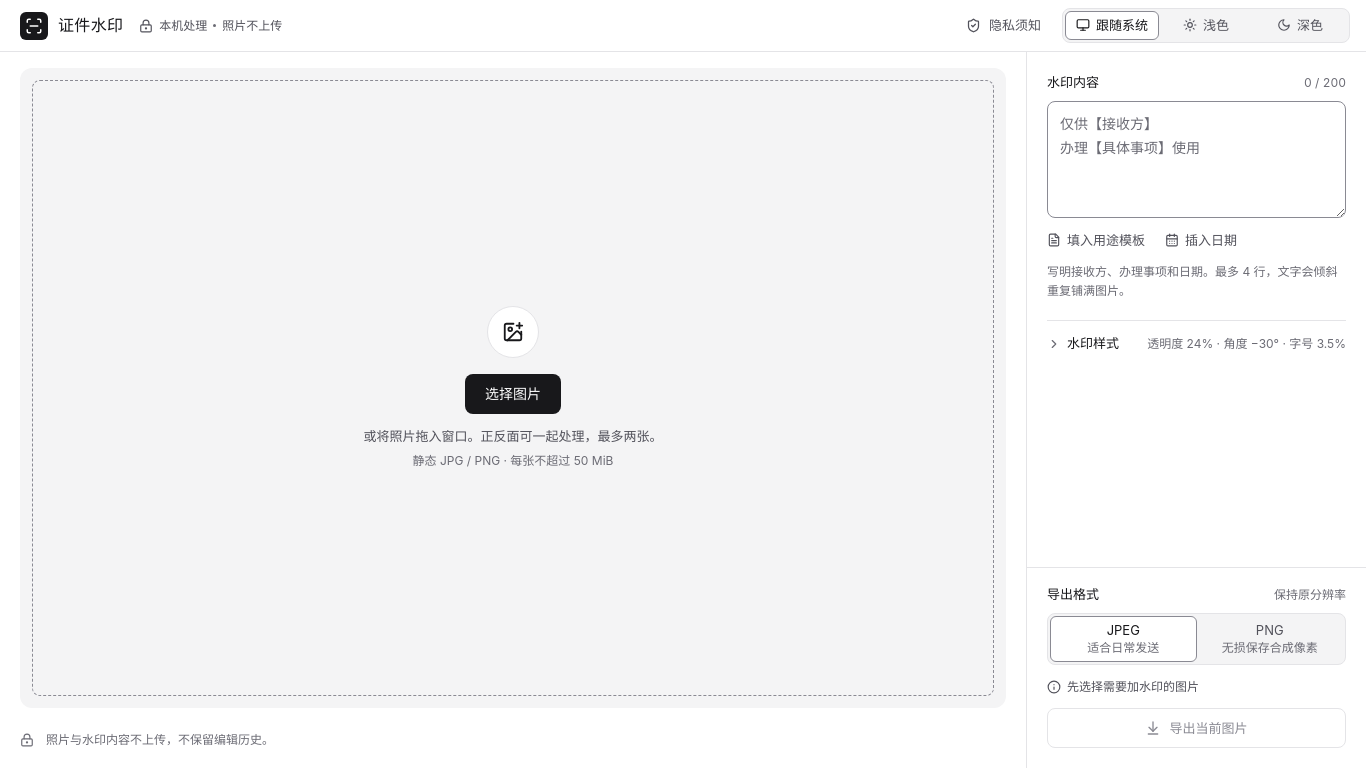
Scenario: the collapsed style section shows its current values
Expected: the text "透明度 24% · 角度 −30° · 字号 3.5%" is shown, [1147,334,1346,353]
Set the slider labelled "透明度" to "40" at (1196, 343), box [1047,320,1346,366]
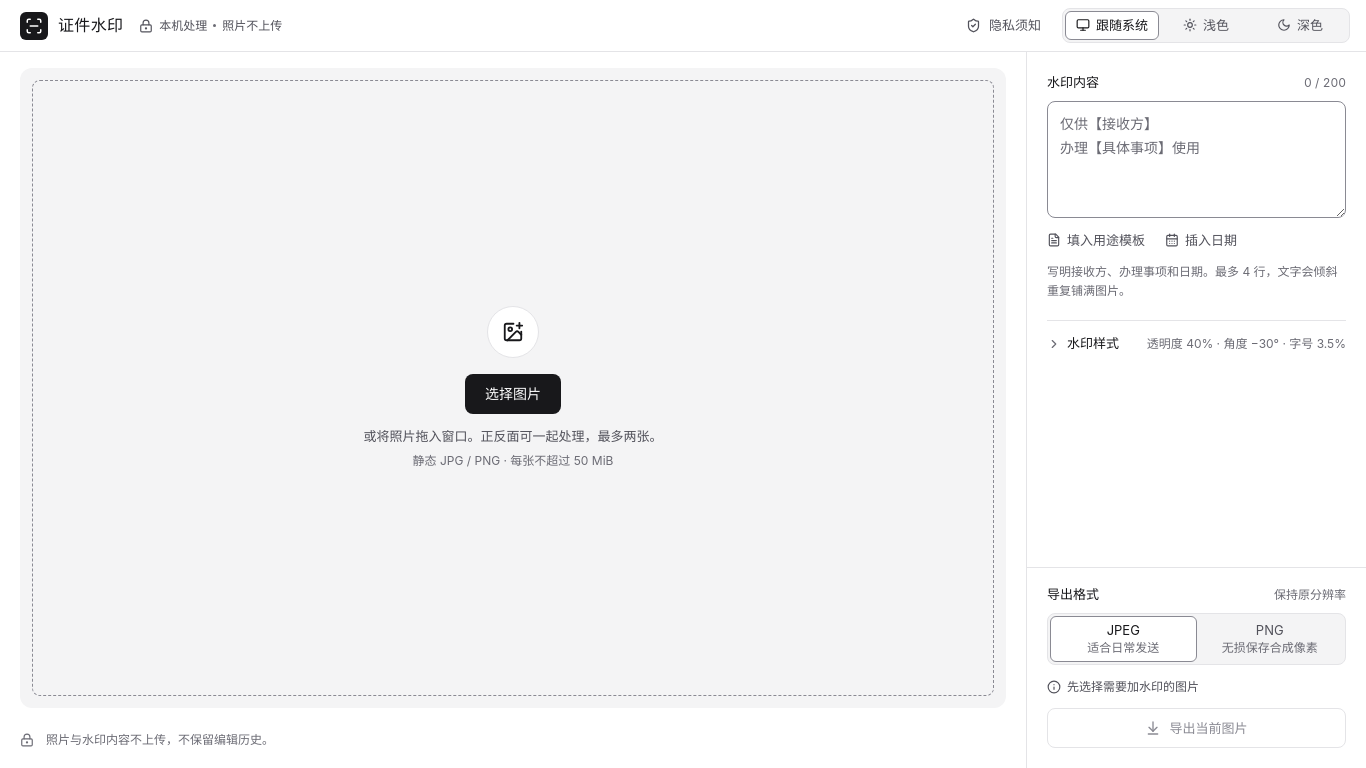
Result: the text "透明度 40% · 角度 −30° · 字号 3.5%" is shown at [1147,334,1346,353]
